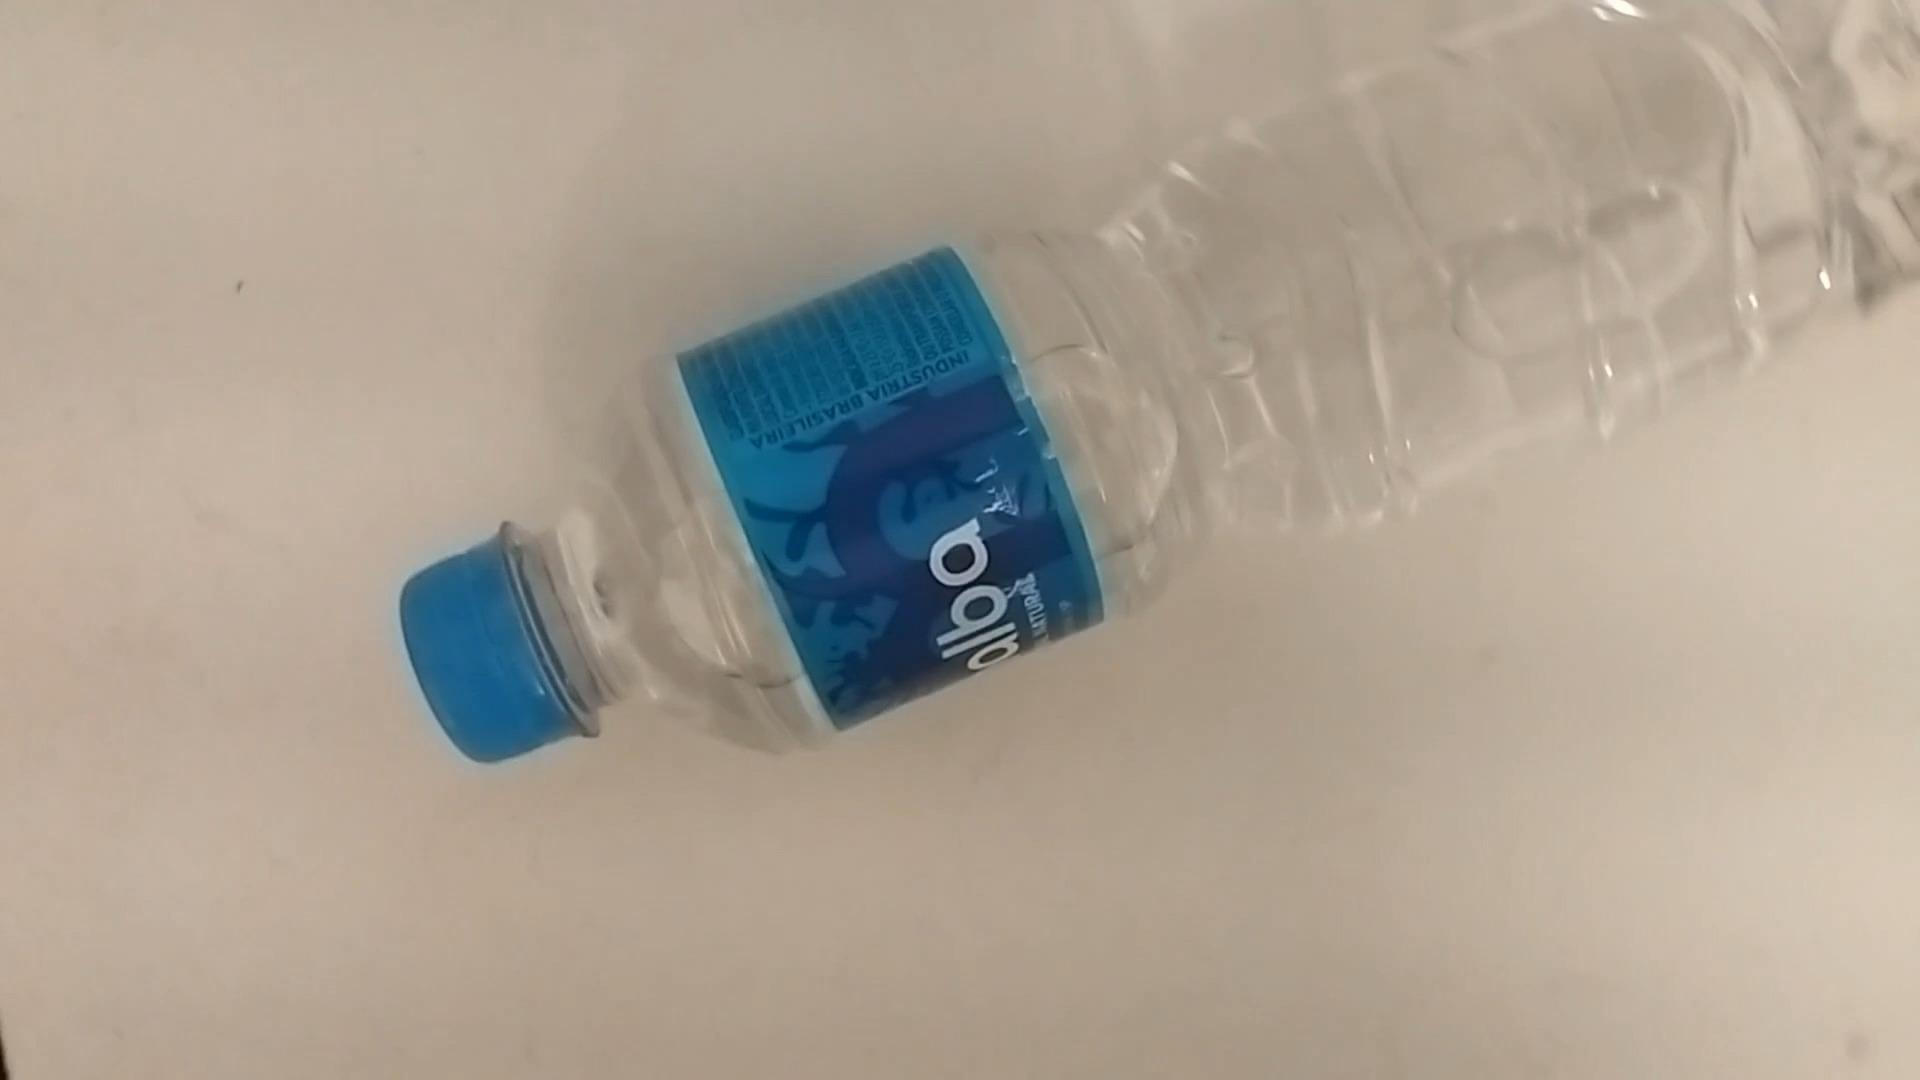agua: (393, 0, 1920, 769)
